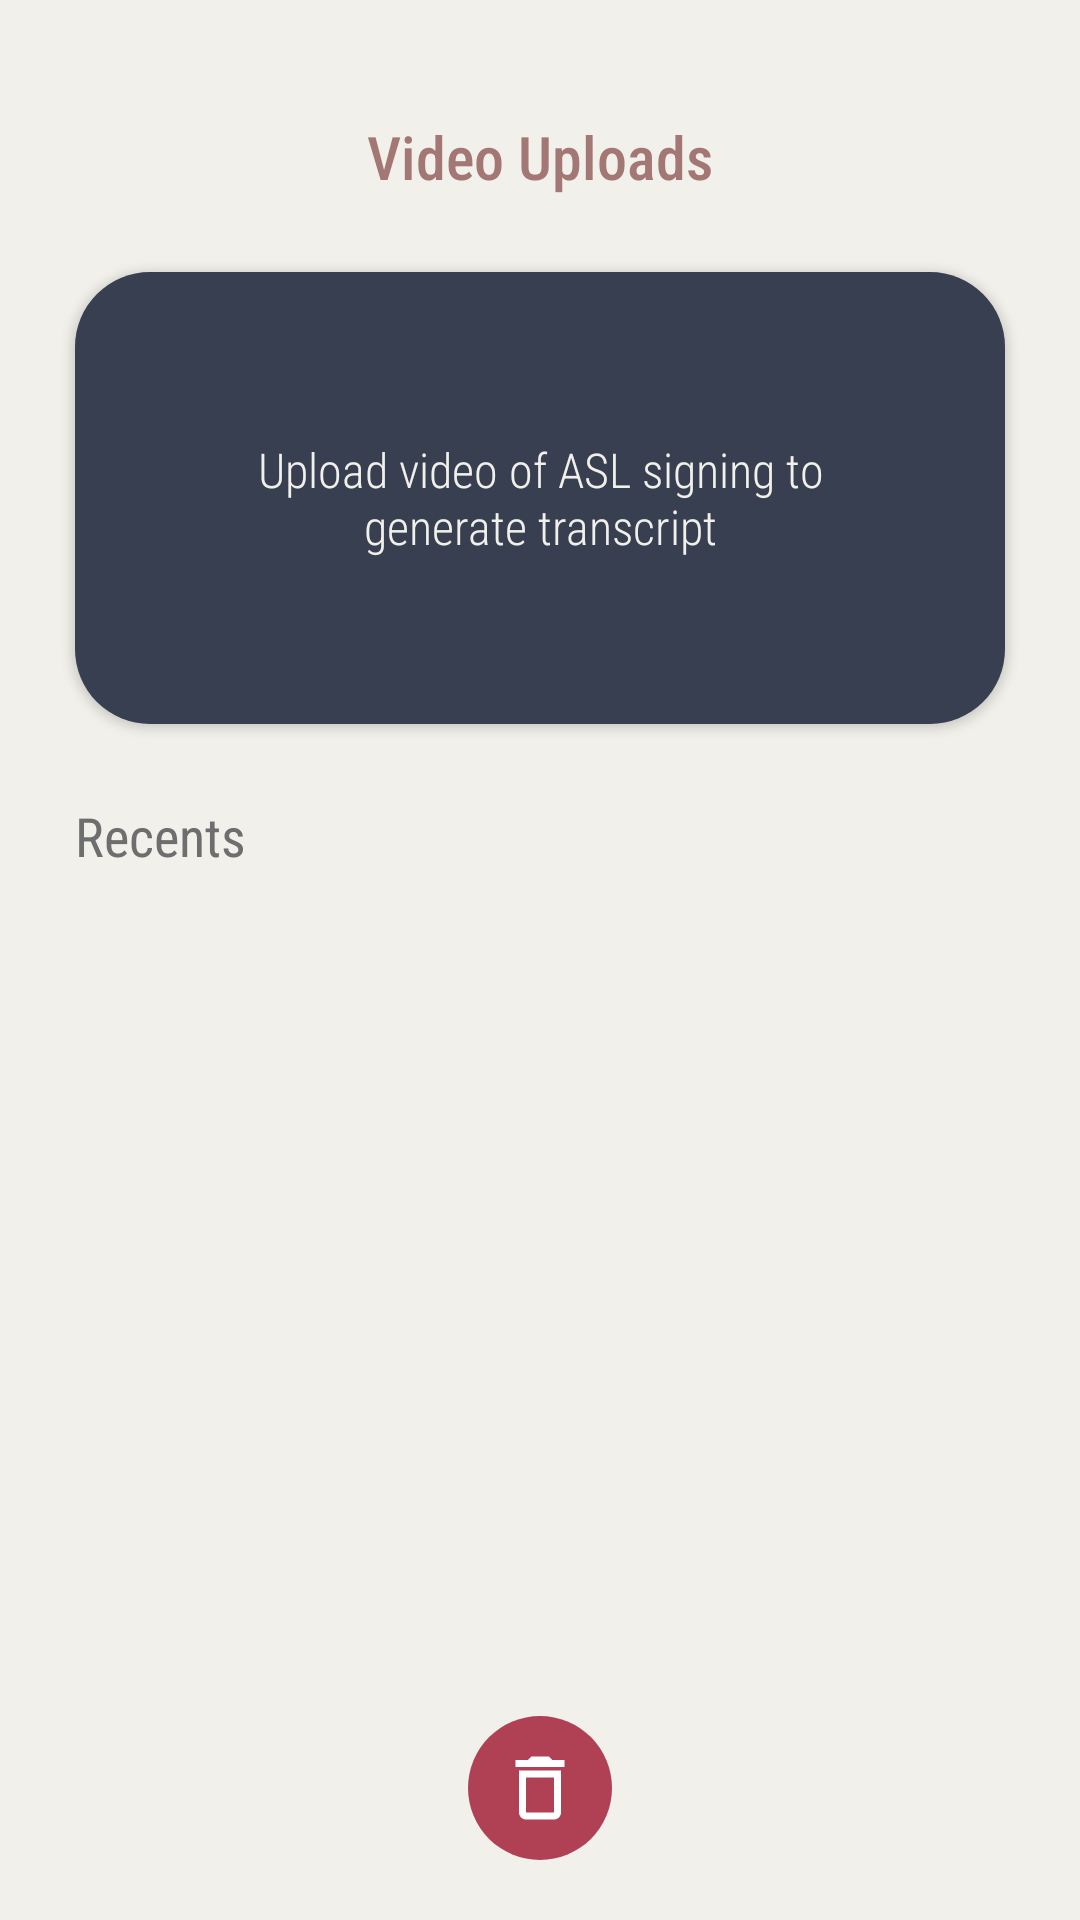

Icons on this 1080 × 1920 Android screen, each with its box as {"x1": x1, "y1": y1, "x2": x2, "y2": y2}:
delete: {"x1": 468, "y1": 1716, "x2": 612, "y2": 1860}
